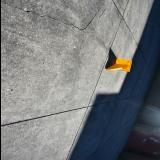cone: (106, 58, 130, 72)
